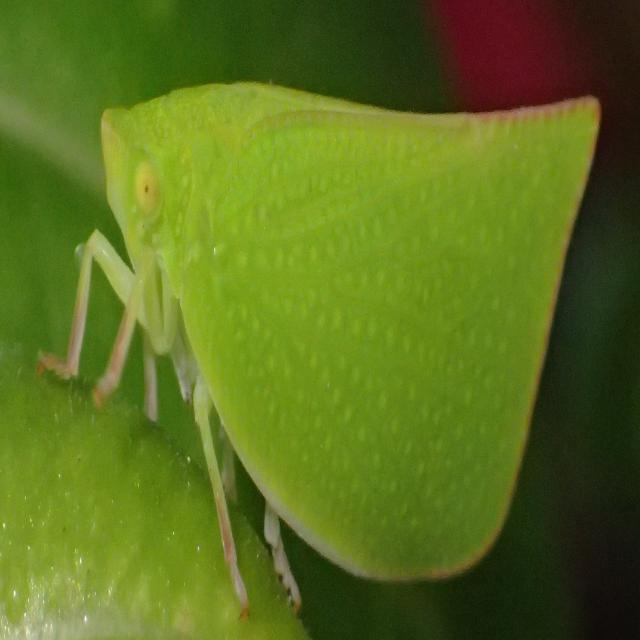wereng pada daun padi: (36, 75, 602, 621)
